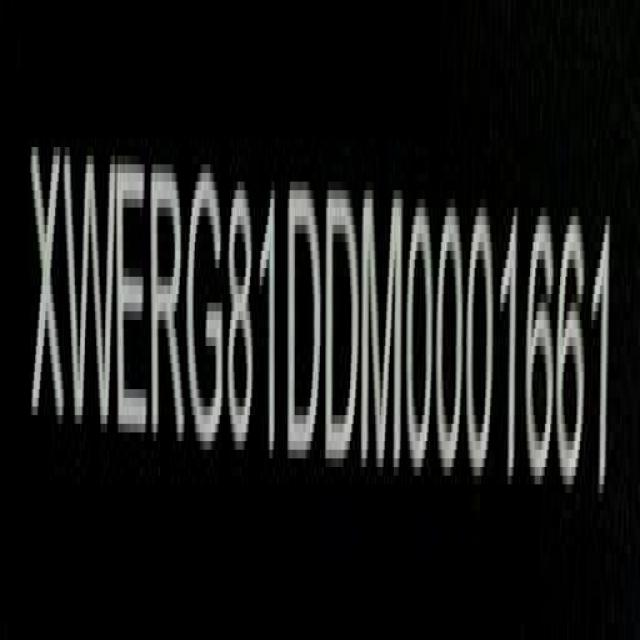0: (408, 196, 436, 475), (437, 204, 465, 476), (466, 204, 493, 482)
1: (259, 178, 282, 462), (592, 208, 614, 502), (501, 202, 522, 485)
6: (556, 208, 585, 493), (526, 206, 555, 489)
8: (224, 178, 254, 457)
D: (327, 183, 364, 472), (288, 177, 322, 464)
E: (116, 151, 150, 450)
G: (188, 164, 228, 458)
M: (360, 184, 406, 473)
R: (151, 147, 184, 452)
W: (66, 141, 114, 446)
X: (31, 134, 66, 442)
